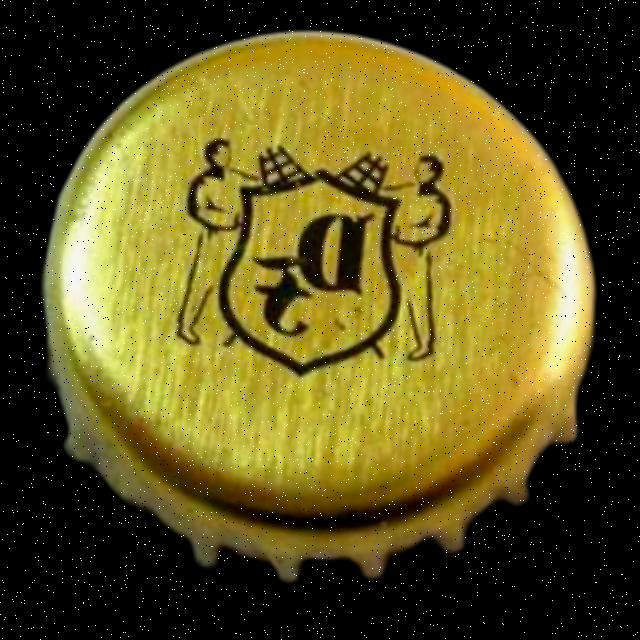Metal: (17, 0, 632, 611)
